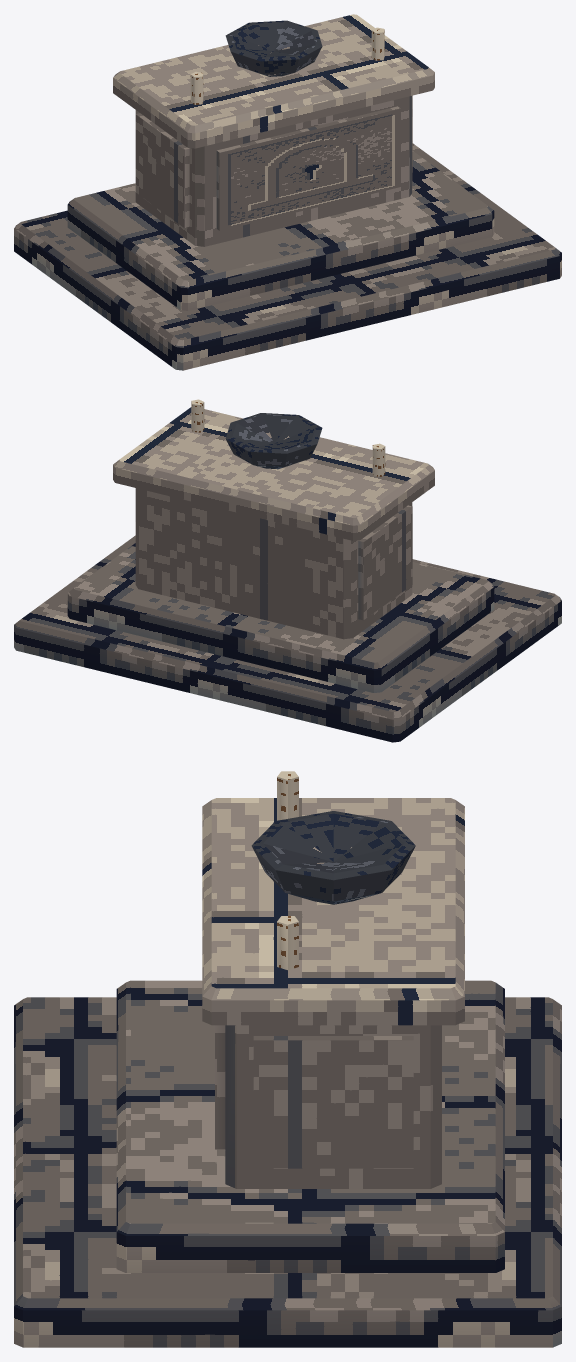
The model's file is tmpl.altar__cold.glb.
3 views of the same model, one above another, from view 1: azimuth 30°, elevation 25°; view 2: azimuth 150°, elevation 25°; view 3: azimuth 270°, elevation 25° (orthographic). The views are drawn at different scales.
Visible parts, largest first — view 1: kit_altar, kit_reliefs, kit_bowl, kit_candles; view 2: kit_altar, kit_reliefs, kit_bowl, kit_candles; view 3: kit_altar, kit_reliefs, kit_bowl, kit_candles.
Boxes of the visible parts, x1,y1,x2,y2 form: kit_altar: [14, 14, 561, 370]; kit_reliefs: [135, 96, 412, 230]; kit_bowl: [225, 20, 322, 76]; kit_candles: [190, 27, 384, 104]; kit_altar: [14, 407, 561, 742]; kit_reliefs: [358, 505, 412, 620]; kit_bowl: [225, 413, 322, 469]; kit_candles: [191, 399, 385, 476]; kit_altar: [14, 798, 561, 1347]; kit_reliefs: [215, 1025, 413, 1168]; kit_bowl: [251, 811, 415, 904]; kit_candles: [277, 771, 298, 970].
Size of the model in its own units: 3.2 by 1.69 by 2.4.
Materials: 6 (6 with a texture image).
